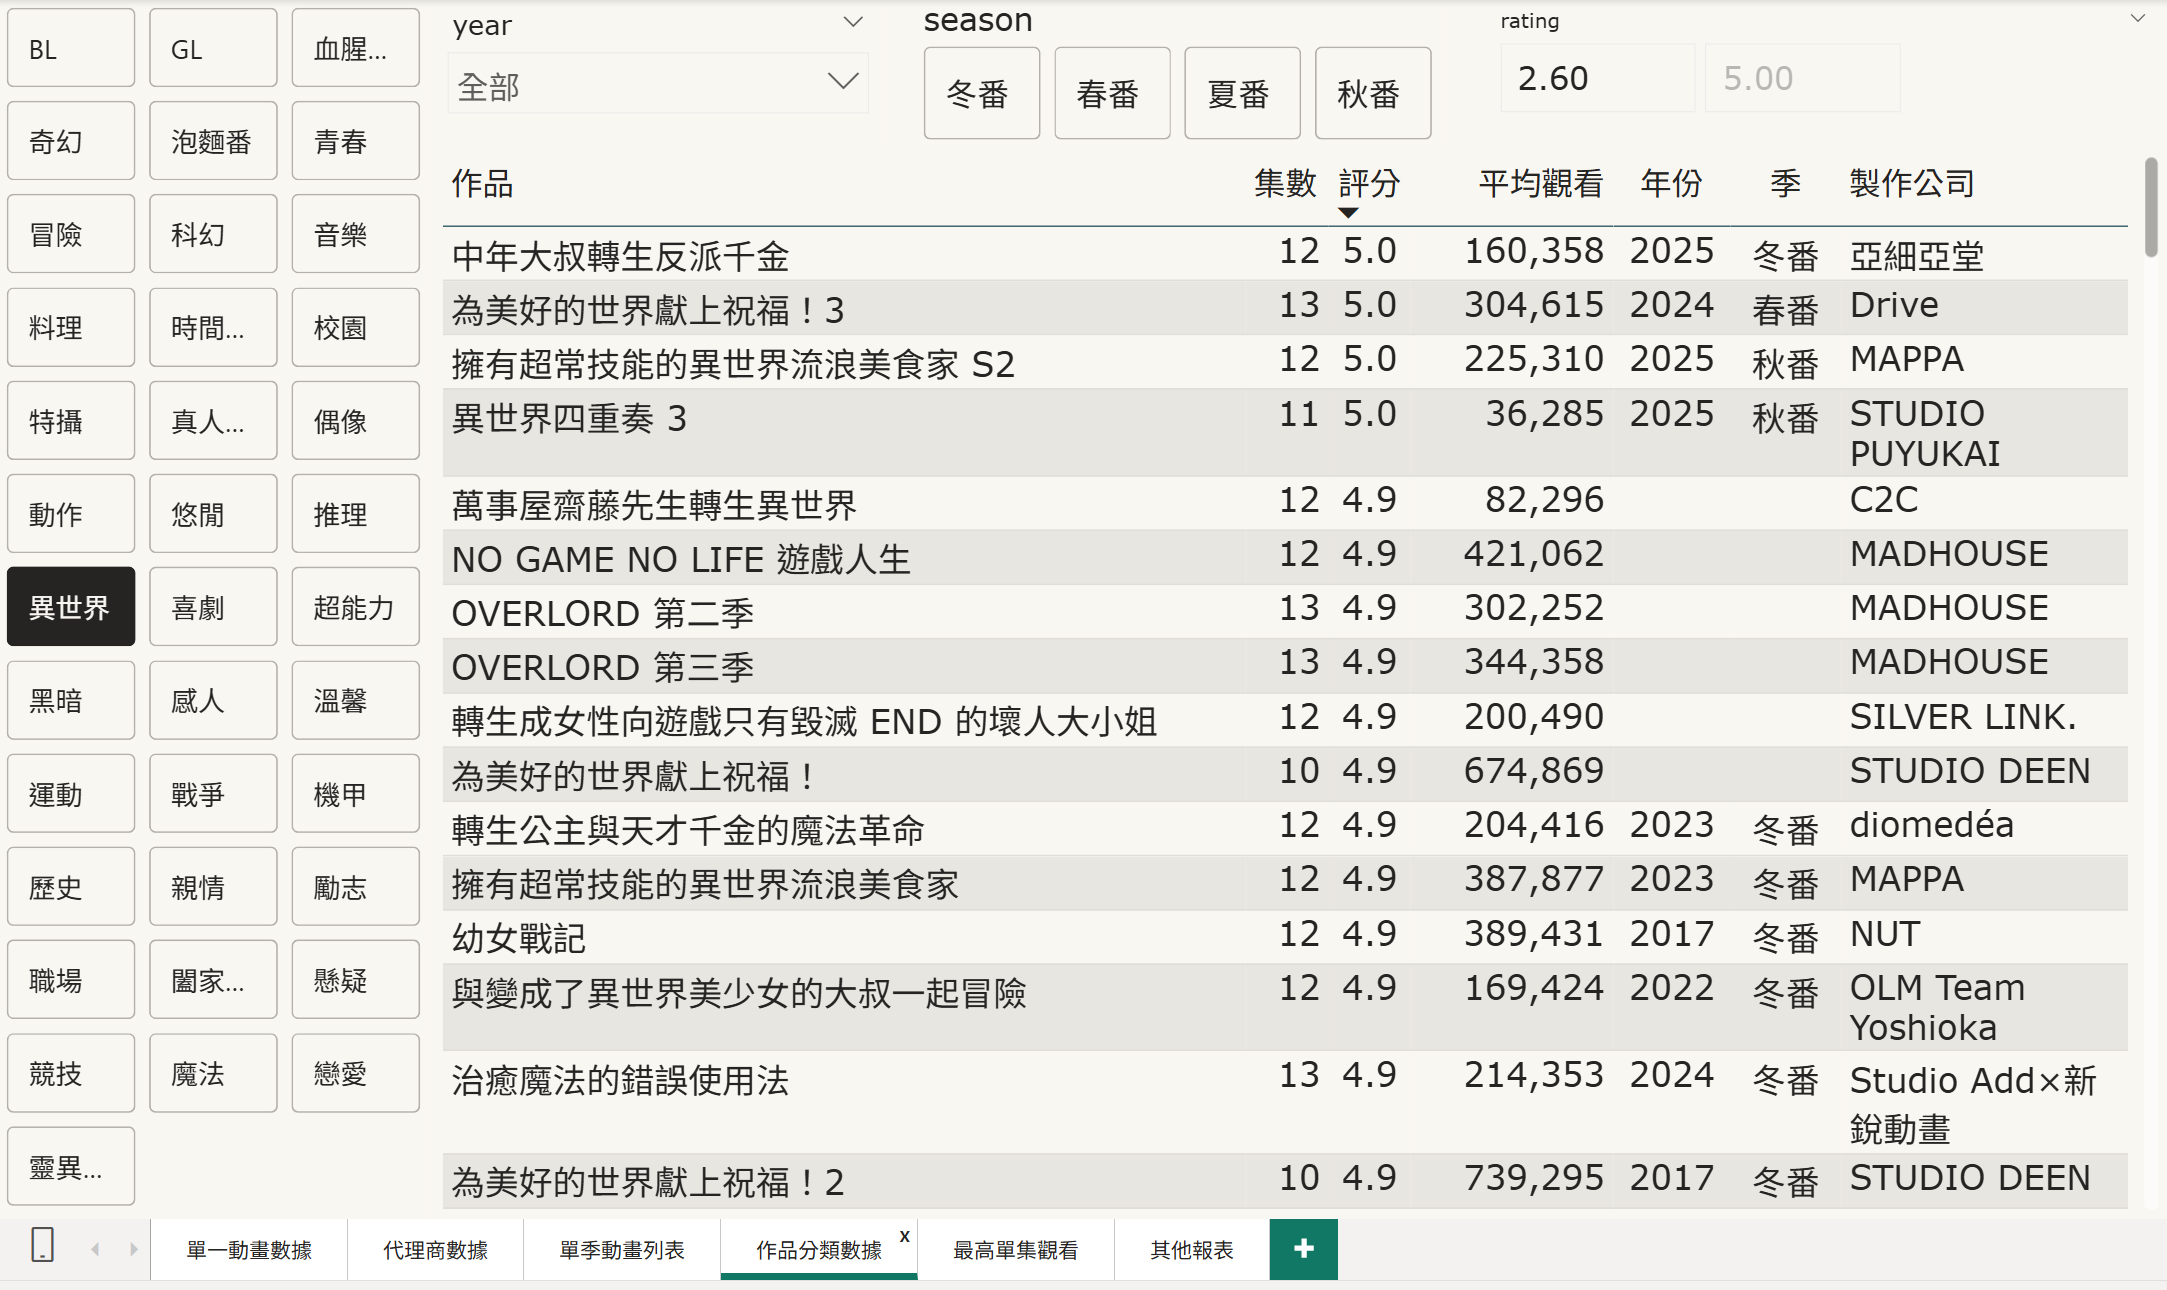

What the dashboard file says about the page in this screenshot:
{"tool":"powerbi","page":{"name":"作品分類數據","canvas":[1280,720],"ordinal":3},"visuals":[{"type":"tableEx","fields":{"Values":["public v_clean_tv_animelist.title","Sum(public v_clean_tv_animelist.episodes)","Sum(public v_clean_tv_animelist.rating)","Sum(public v_clean_tv_animelist.mean_view_count)","Sum(public v_clean_tv_animelist.year)","public v_clean_tv_animelist.season","public anime_metadata.studio"]},"box":[255,88.3,1024.9,631.8],"z":0},{"type":"advancedSlicerVisual","fields":{"Values":["public anime_metadata.tags"]},"box":[0,0,255,720.1],"z":1},{"type":"advancedSlicerVisual","title":"season","fields":{"Values":["season order.season"]},"box":[541,0,312.2,88.3],"z":2},{"type":"slicer","fields":{"Values":["public v_clean_tv_animelist.year"]},"box":[255,0,268.7,88.3],"z":3},{"type":"slicer","fields":{"Values":["public v_clean_tv_animelist.rating"]},"box":[873.1,0,406.7,88.3],"z":4}]}

Visuals, with their boxes on the page's 1280x720 design canvas (x1, y1, x2, y2). These are canvas units, not pixel positions in the 2167x1290 screenshot, which may show the page scaled, cropped or inside an application window:
tableEx - public v_clean_tv_animelist.title x Sum(public v_clean_tv_animelist.episodes): {"left": 255, "top": 88, "right": 1280, "bottom": 720}
advancedSlicerVisual - public anime_metadata.tags: {"left": 0, "top": 0, "right": 255, "bottom": 720}
"season" advancedSlicerVisual: {"left": 541, "top": 0, "right": 853, "bottom": 88}
slicer - public v_clean_tv_animelist.year: {"left": 255, "top": 0, "right": 524, "bottom": 88}
slicer - public v_clean_tv_animelist.rating: {"left": 873, "top": 0, "right": 1280, "bottom": 88}
